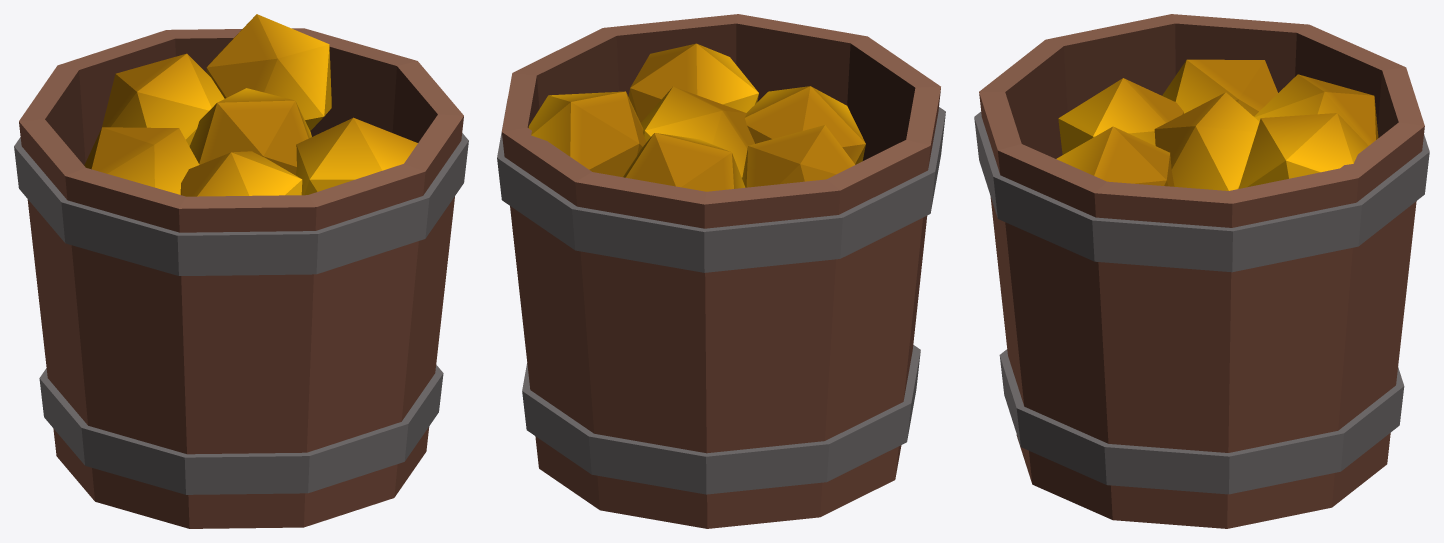
Rendered from Fruit 5.glb.
3 views of the same model, side by side, from view 1: azimuth 30°, elevation 25°; view 2: azimuth 150°, elevation 25°; view 3: azimuth 270°, elevation 25° (orthographic).
Visible parts, largest first — view 1: Fruit 5; view 2: Fruit 5; view 3: Fruit 5.
Boxes of the visible parts, <box> form: Fruit 5: <box>14,14,468,528</box>; Fruit 5: <box>497,14,945,528</box>; Fruit 5: <box>974,14,1429,528</box>.
Size of what is drawn, in the model's own units: 0.5338 by 0.4848 by 0.5299.
1 material, 1 textured.
